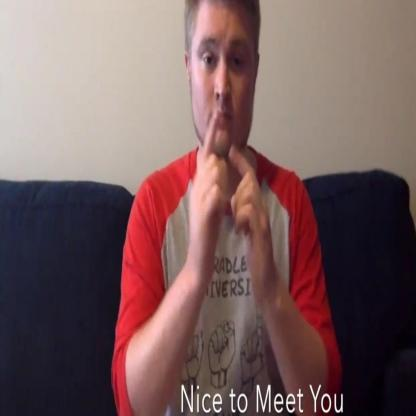NiceToMeetYou: (182, 107, 291, 305)
